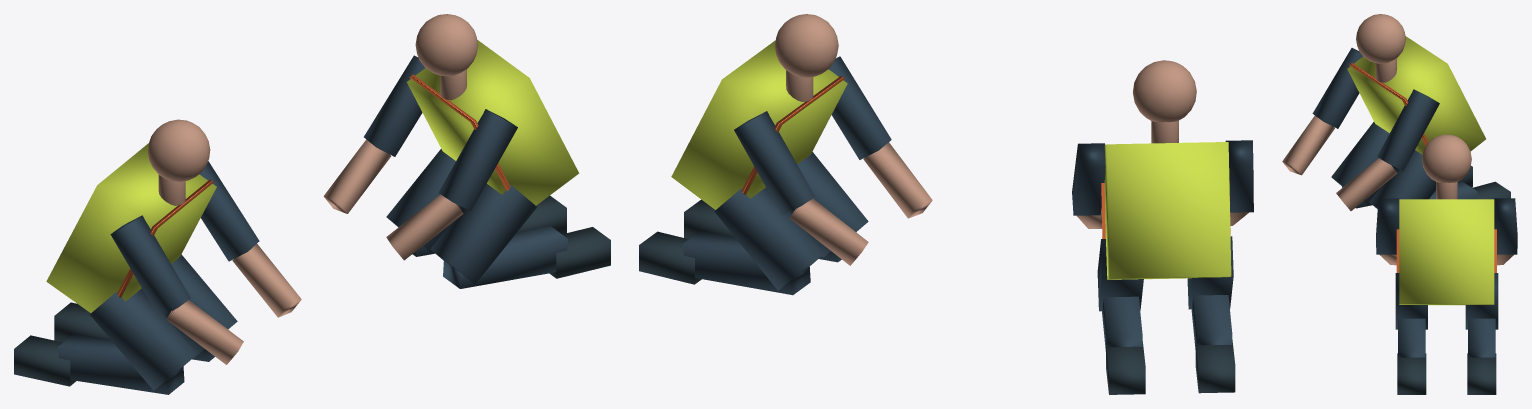
3 renders of one model, left to right at view 1: azimuth 30°, elevation 25°; view 2: azimuth 150°, elevation 25°; view 3: azimuth 270°, elevation 25°, orthographic. The views are drawn at different scales.
Visible parts, largest first — view 1: worker_1_torso, worker_0_torso, worker_0_thigh-1, worker_1_thigh1, worker_1_upperarm1, worker_0_upperarm-1, worker_0_shin-1, worker_1_shin1, worker_0_head, worker_1_head, worker_1_upperarm-1, worker_0_upperarm1 (+14 smaller); view 2: worker_0_torso, worker_1_torso, worker_1_thigh-1, worker_1_upperarm-1, worker_1_shin-1, worker_1_head, worker_0_head, worker_1_upperarm1, worker_1_forearm1, worker_1_forearm-1, worker_1_thigh1, worker_1_boot-1 (+12 smaller); view 3: worker_1_torso, worker_0_torso, worker_0_upperarm1, worker_0_head, worker_1_head, worker_0_upperarm-1, worker_0_thigh1, worker_0_thigh-1, worker_0_forearm-1, worker_0_forearm1, worker_1_upperarm1, worker_1_upperarm-1 (+12 smaller).
Part boxes in pixels (<box>): worker_1_torso: <box>407,40,579,205</box>; worker_0_torso: <box>46,143,216,312</box>; worker_0_thigh-1: <box>90,288,197,390</box>; worker_1_thigh1: <box>430,183,536,284</box>; worker_1_upperarm1: <box>438,109,517,211</box>; worker_0_upperarm-1: <box>110,215,190,317</box>; worker_0_shin-1: <box>58,334,184,394</box>; worker_1_shin1: <box>443,226,567,288</box>; worker_0_head: <box>147,119,210,181</box>; worker_1_head: <box>415,14,478,76</box>; worker_1_upperarm-1: <box>364,55,425,156</box>; worker_0_upperarm1: <box>199,161,259,261</box>; worker_0_torso: <box>1104,142,1231,279</box>; worker_1_torso: <box>671,40,847,209</box>; worker_1_thigh-1: <box>714,187,823,290</box>; worker_1_upperarm-1: <box>734,111,815,215</box>; worker_1_shin-1: <box>683,231,810,295</box>; worker_1_head: <box>774,14,838,77</box>; worker_0_head: <box>1133,60,1196,122</box>; worker_1_upperarm1: <box>828,56,891,159</box>; worker_1_forearm1: <box>863,142,932,218</box>; worker_1_forearm-1: <box>789,198,868,265</box>; worker_1_thigh1: <box>790,152,868,257</box>; worker_1_boot-1: <box>639,231,701,284</box>; worker_1_torso: <box>1399,199,1494,305</box>; worker_0_torso: <box>1347,36,1485,154</box>; worker_0_upperarm1: <box>1377,89,1439,170</box>; worker_0_head: <box>1356,14,1405,63</box>; worker_1_head: <box>1422,134,1471,182</box>; worker_0_upperarm-1: <box>1312,48,1362,128</box>; worker_0_thigh1: <box>1369,150,1435,208</box>; worker_0_thigh-1: <box>1331,122,1395,204</box>; worker_0_forearm-1: <box>1282,115,1334,175</box>; worker_0_forearm1: <box>1336,158,1397,210</box>; worker_1_upperarm1: <box>1376,198,1399,254</box>; worker_1_upperarm-1: <box>1494,198,1517,254</box>.
Bounding box in the file's own units: 2.06 × 0.9406 × 0.91.
